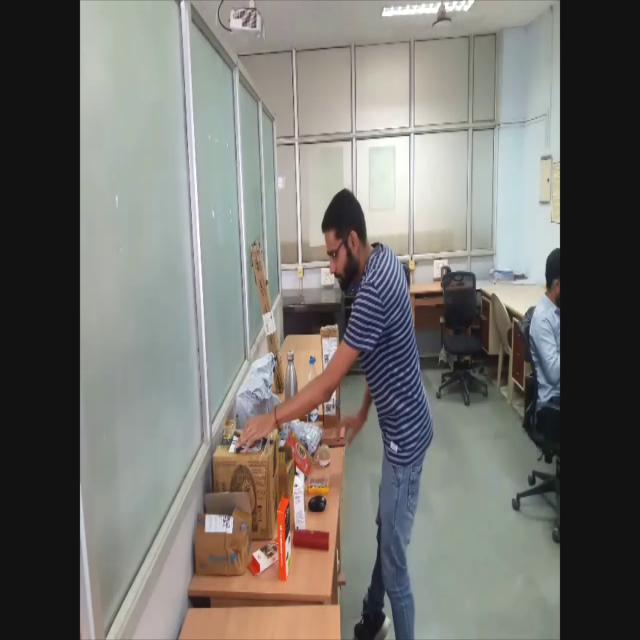normal: (291, 144, 431, 635)
